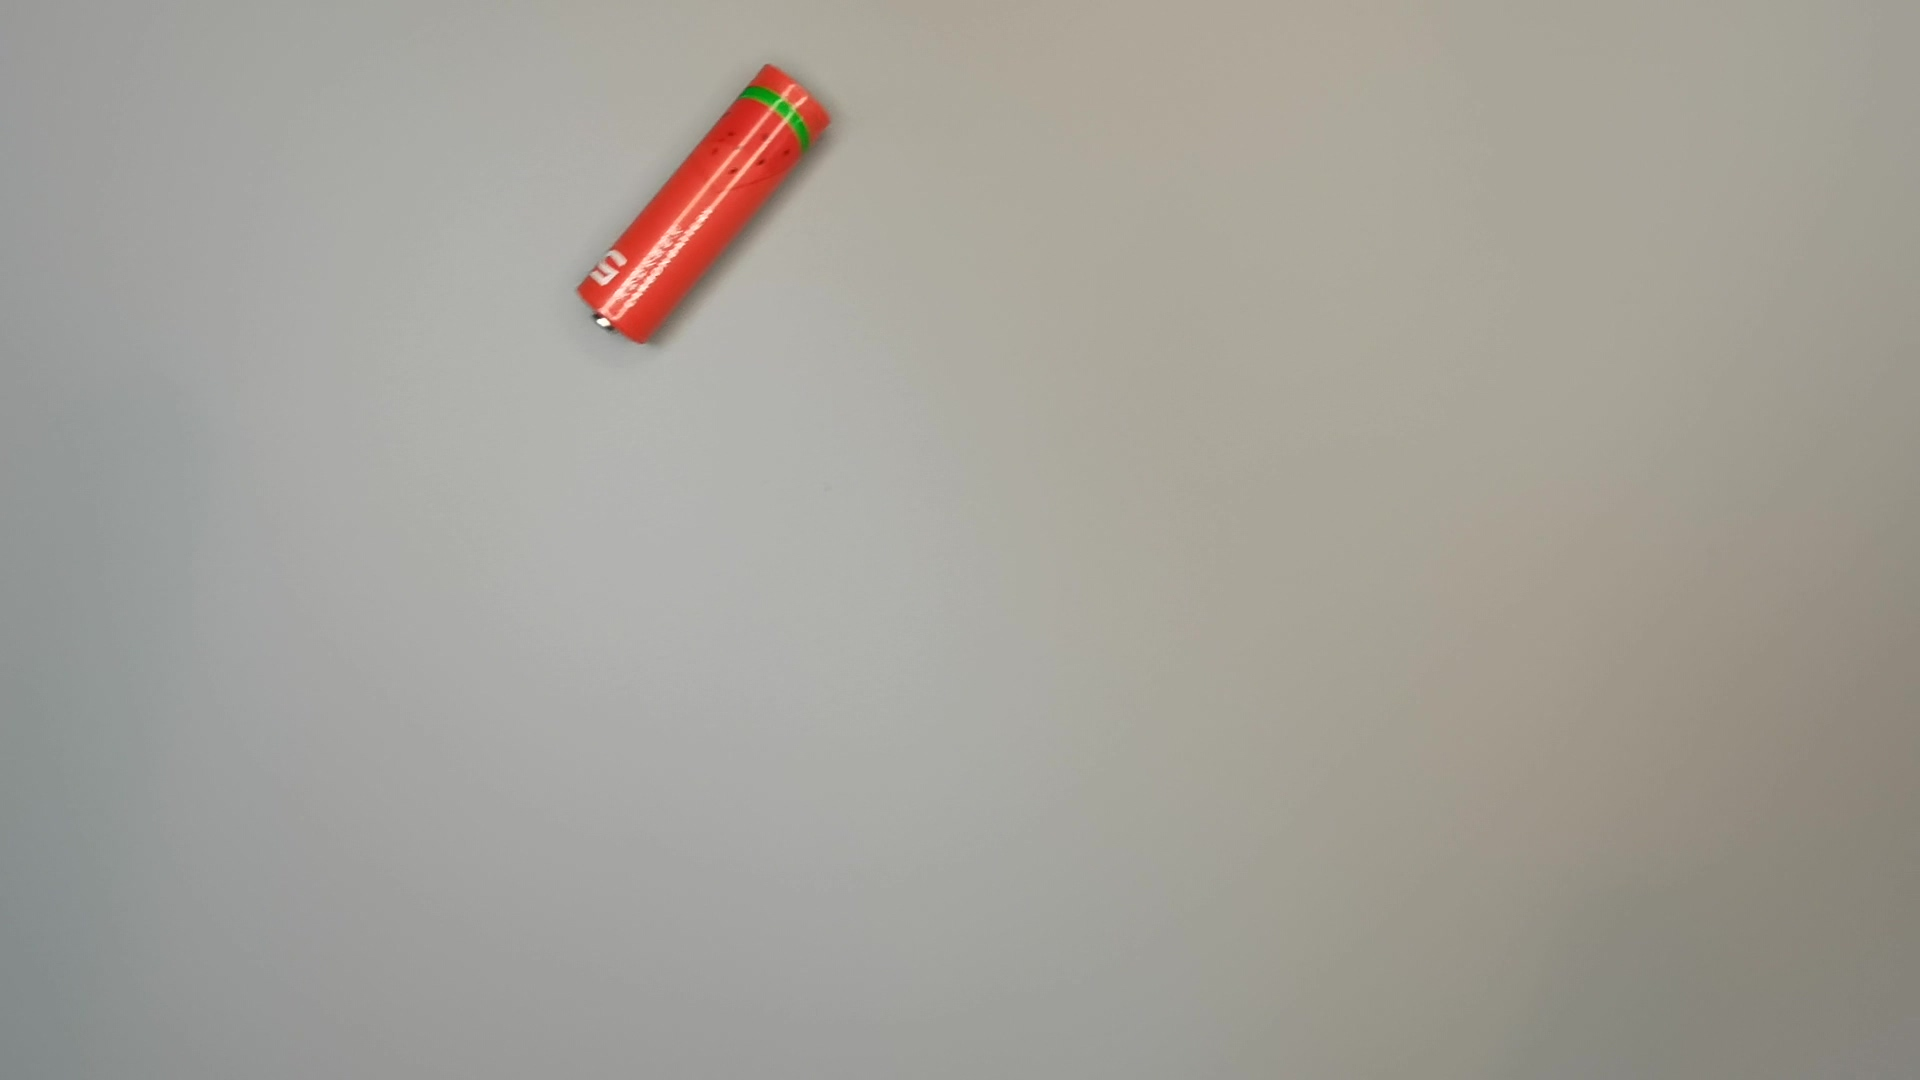battery: (575, 61, 841, 349)
